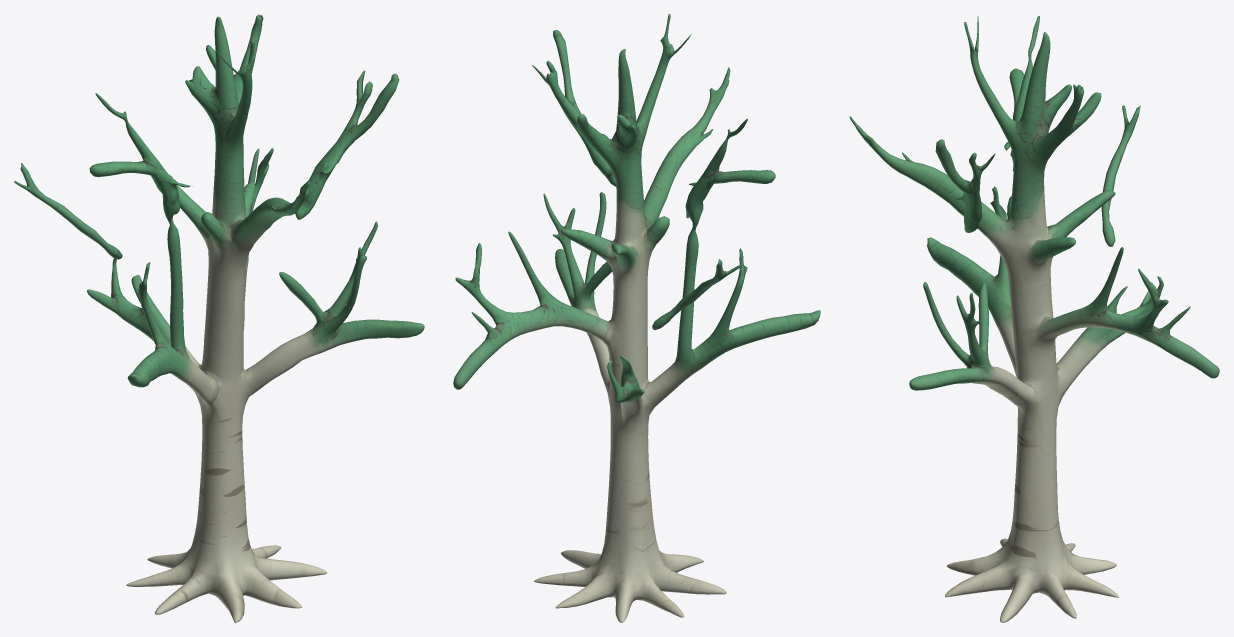
File: silver_birch-source.glb
3 renders of one model, left to right at view 1: azimuth 30°, elevation 25°; view 2: azimuth 150°, elevation 25°; view 3: azimuth 270°, elevation 25°, orthographic. The views are drawn at different scales.
Visible parts, largest first — view 1: model; view 2: model; view 3: model.
Boxes of the visible parts, x1,y1,x2,y2 form: model: (14, 14, 424, 622); model: (453, 14, 820, 622); model: (849, 16, 1219, 622).
Bounding box in the file's own units: 1.04 × 1.88 × 1.13.
Materials: 1 (1 with a texture image).
